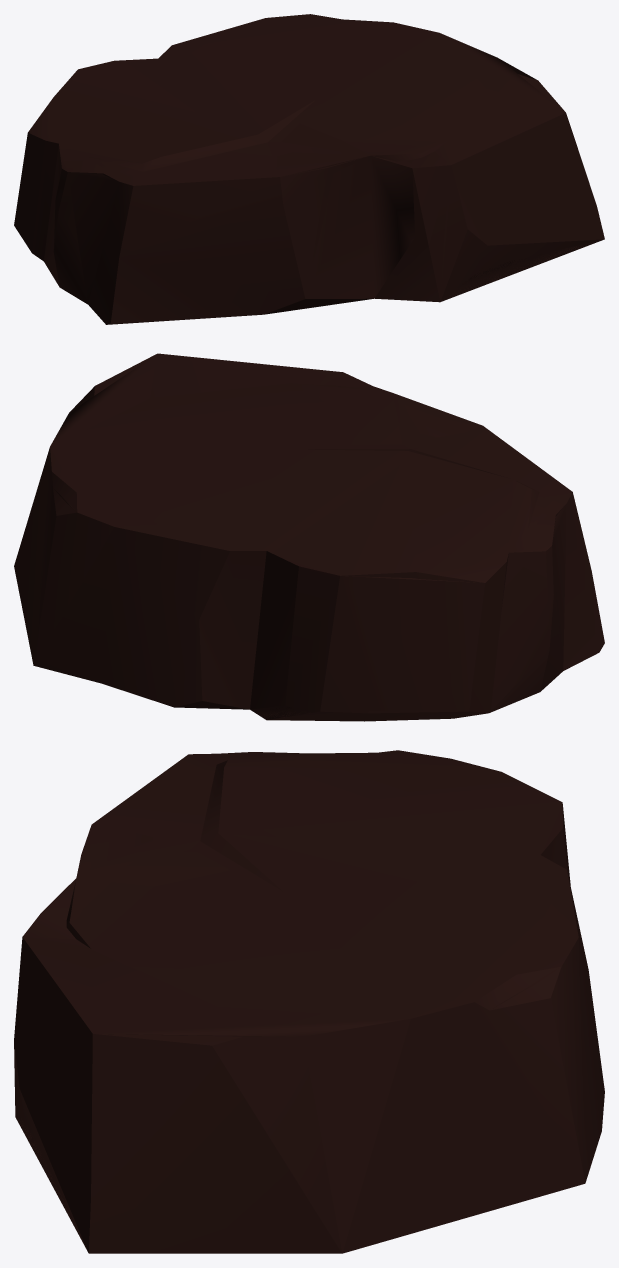
File: SM_Venus_Rock_05.fbx
The picture shows the model from 3 angles, top to bottom: view 1: azimuth 30°, elevation 25°; view 2: azimuth 150°, elevation 25°; view 3: azimuth 270°, elevation 25°; orthographic projection. The views are drawn at different scales.
Parts seen in each view (by area): view 1: SM_Venus_Rock_05, SM_Venus_Rock_05_col; view 2: SM_Venus_Rock_05, SM_Venus_Rock_05_col; view 3: SM_Venus_Rock_05, SM_Venus_Rock_05_col.
Part boxes in pixels (x1=…): SM_Venus_Rock_05: x1=14, y1=14, x2=604, y2=324; SM_Venus_Rock_05_col: x1=14, y1=33, x2=594, y2=323; SM_Venus_Rock_05: x1=14, y1=353, x2=604, y2=721; SM_Venus_Rock_05_col: x1=14, y1=353, x2=589, y2=717; SM_Venus_Rock_05: x1=14, y1=750, x2=604, y2=1253; SM_Venus_Rock_05_col: x1=17, y1=753, x2=604, y2=1252.
Size of the model in its own units: 295 by 87.31 by 224.
